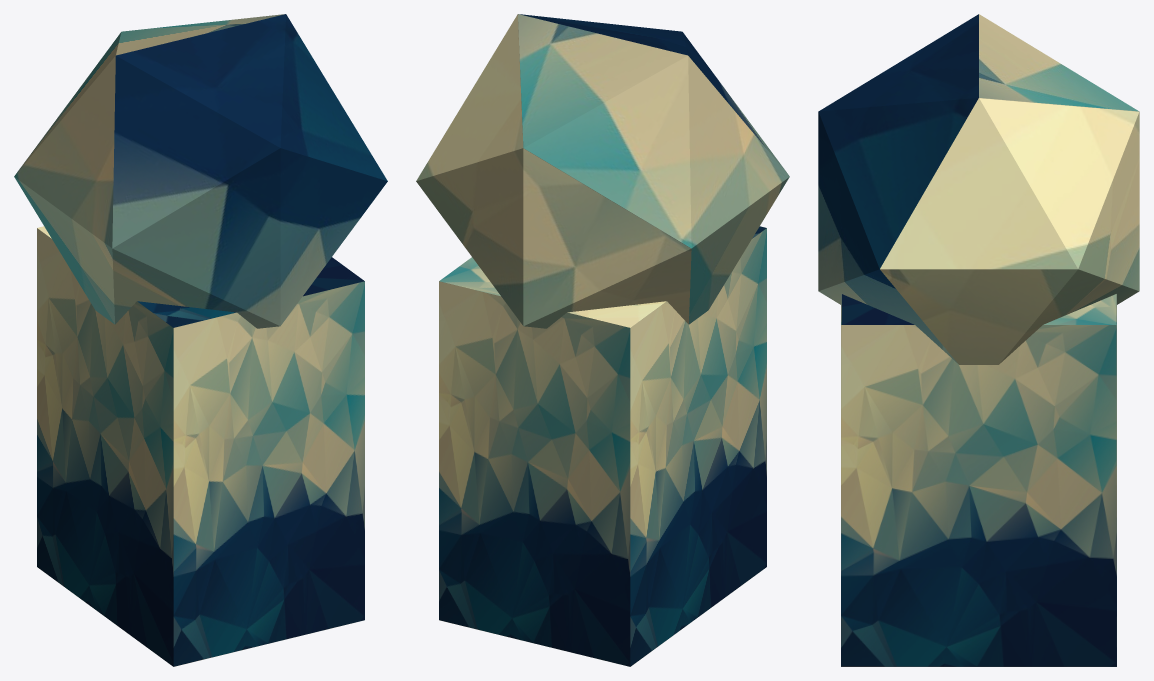
The model's file is r20exportGltf.gltf.
3 views of the same model, side by side, from view 1: azimuth 30°, elevation 25°; view 2: azimuth 150°, elevation 25°; view 3: azimuth 270°, elevation 25° (orthographic).
Parts seen in each view (by area): view 1: 立方体.1; view 2: 立方体.1; view 3: 立方体.1.
Part boxes in pixels (x1=…): 立方体.1: x1=14, y1=14, x2=387, y2=666; 立方体.1: x1=416, y1=14, x2=789, y2=666; 立方体.1: x1=818, y1=14, x2=1139, y2=666.
Bounding box in the file's own units: 170 × 330 × 170.
Materials: 1 (1 with a texture image).
